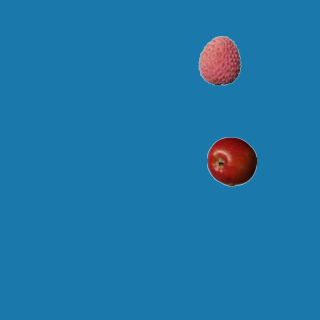Apple Braeburn: (206, 136, 256, 186)
Lychee: (194, 35, 244, 85)
